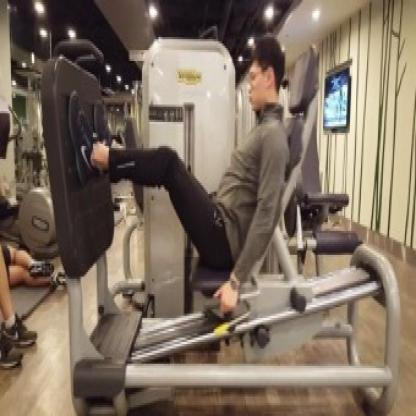leg press: (32, 2, 404, 416)
